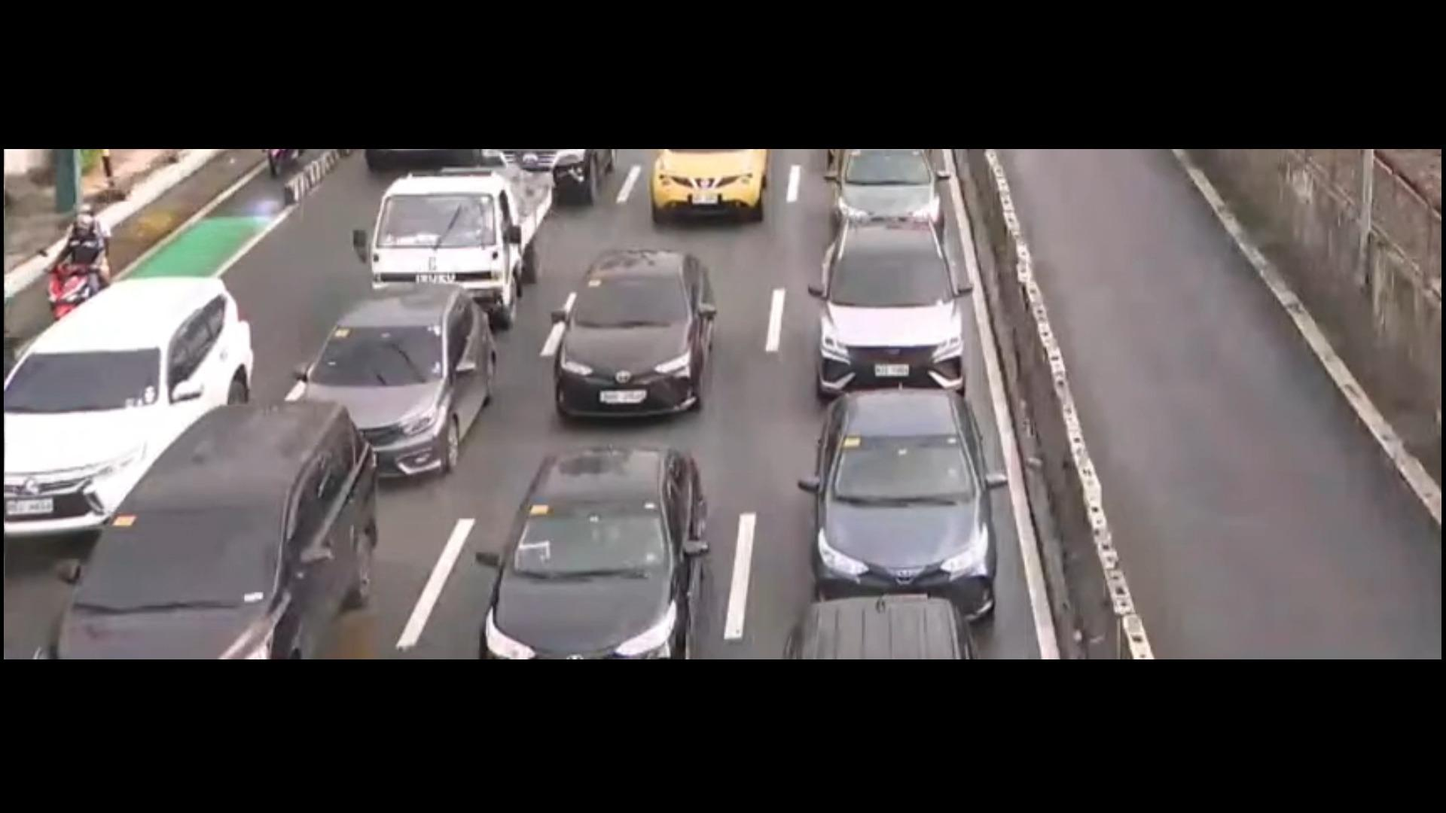Motorcycle: (32, 201, 119, 346)
SUV: (47, 405, 372, 659), (0, 285, 268, 553), (812, 214, 967, 404)
Sedan: (482, 446, 707, 661), (804, 393, 999, 623), (286, 291, 499, 484), (544, 250, 713, 410)
Truck: (360, 163, 554, 338)
